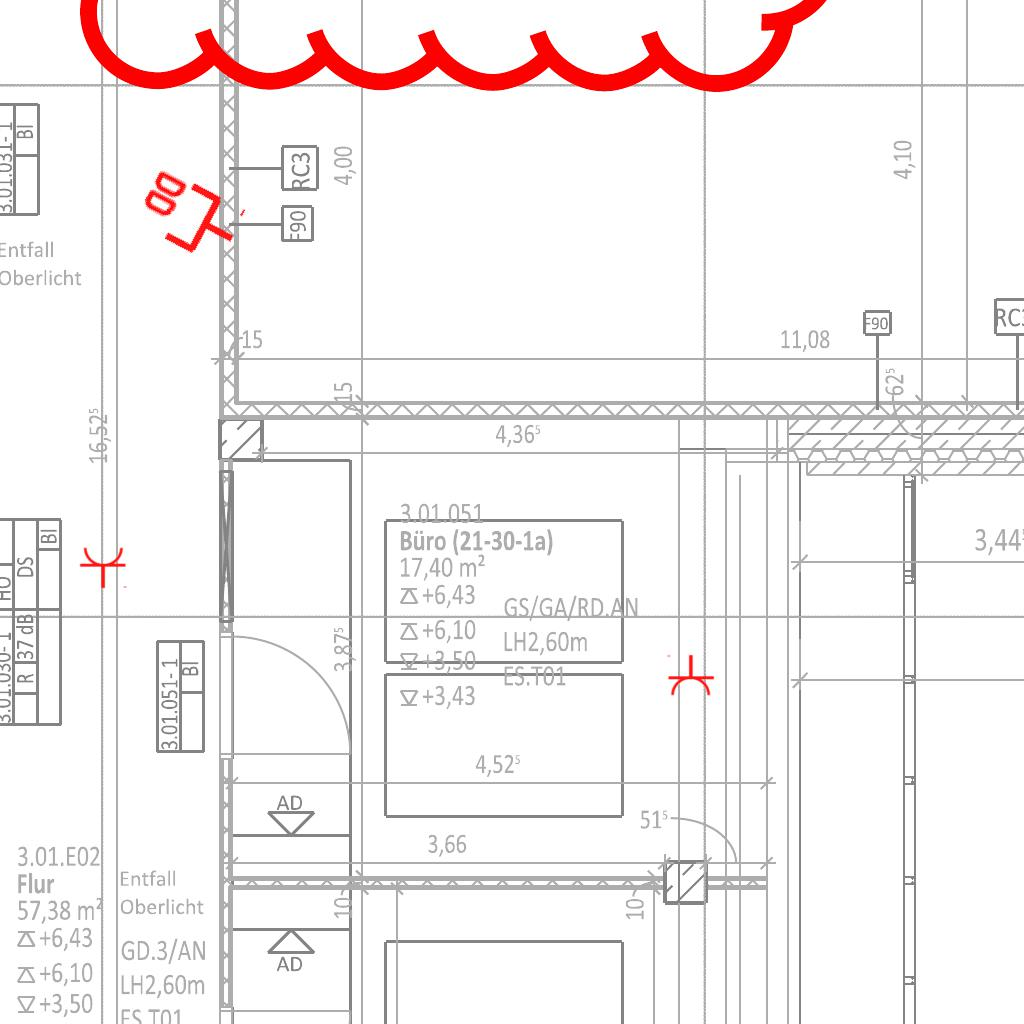Datenanschluss_zweifach: (126, 162, 251, 273)
Schukosteckdose_einfach: (79, 546, 129, 589), (665, 654, 715, 697)
